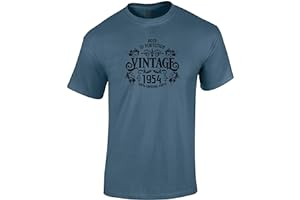design: (123, 36, 181, 90)
